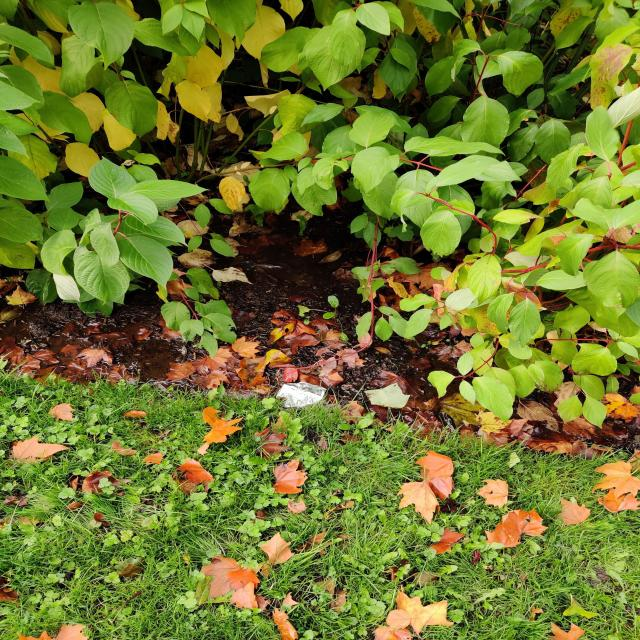litter: (271, 382, 321, 408)
